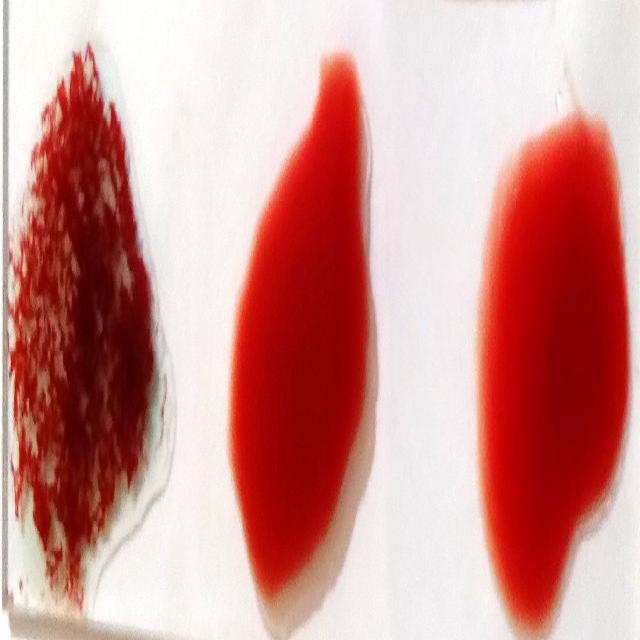A: (13, 62, 165, 640)
